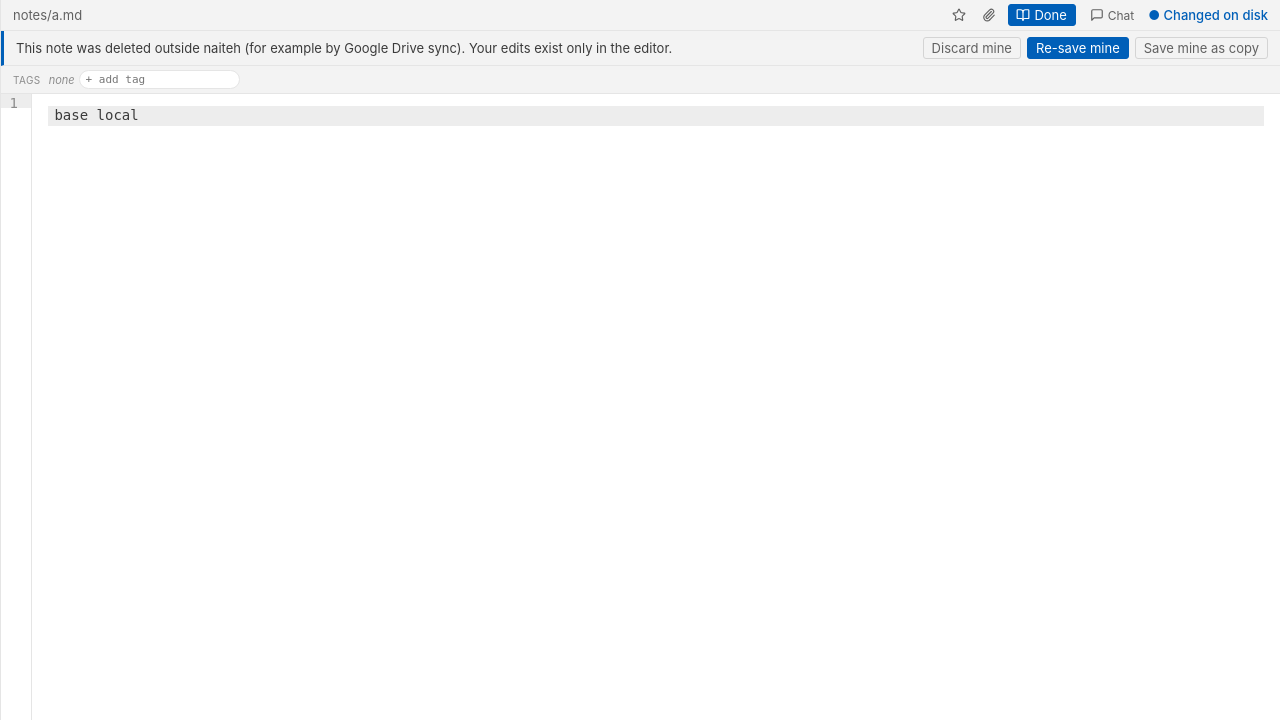
Test: EditorPanel changed-on-disk conflict › a removed file: the banner says so and Re-save mine writes unconditionally
Expected: the message with test id "editor-external-change" shows "deleted outside naiteh", [16,40,672,56]
Expected: the button with test id "external-change-load" reads "Discard mine", [923,37,1021,59]
Click the button with test id "external-change-keep" at (1078, 48), box [1027,37,1129,59]
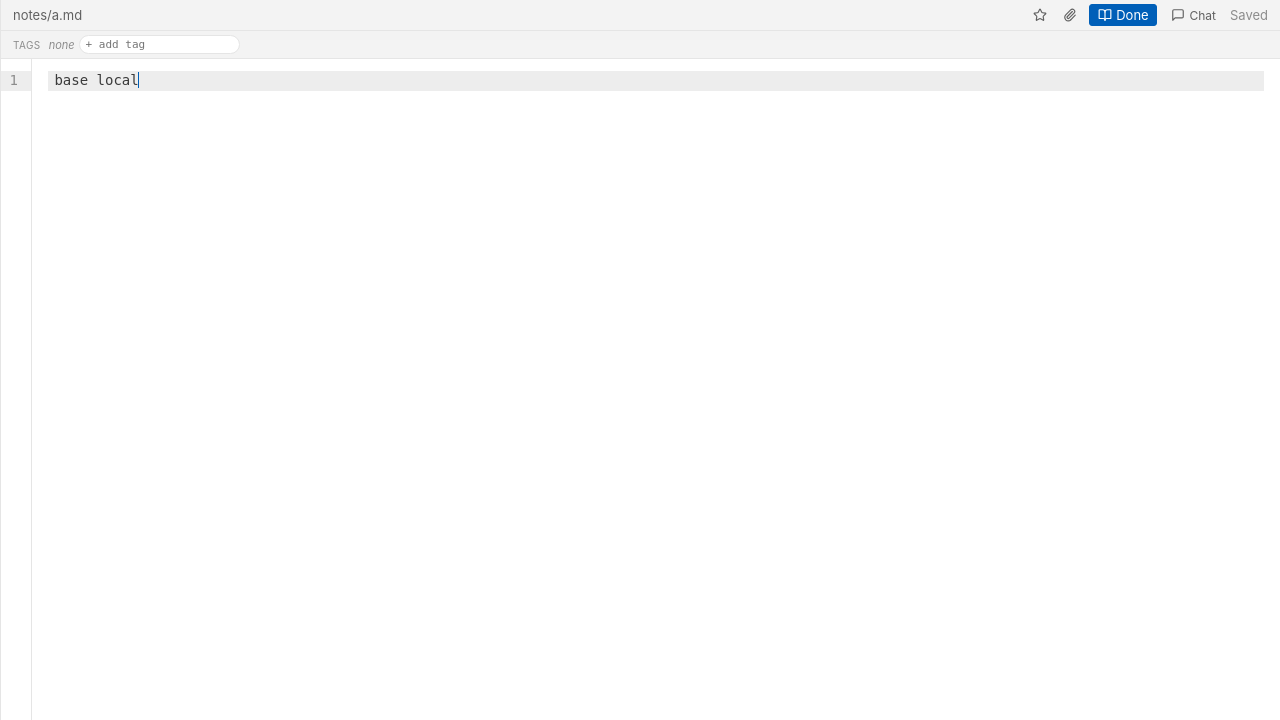
Result: the message with test id "editor-external-change" is gone
